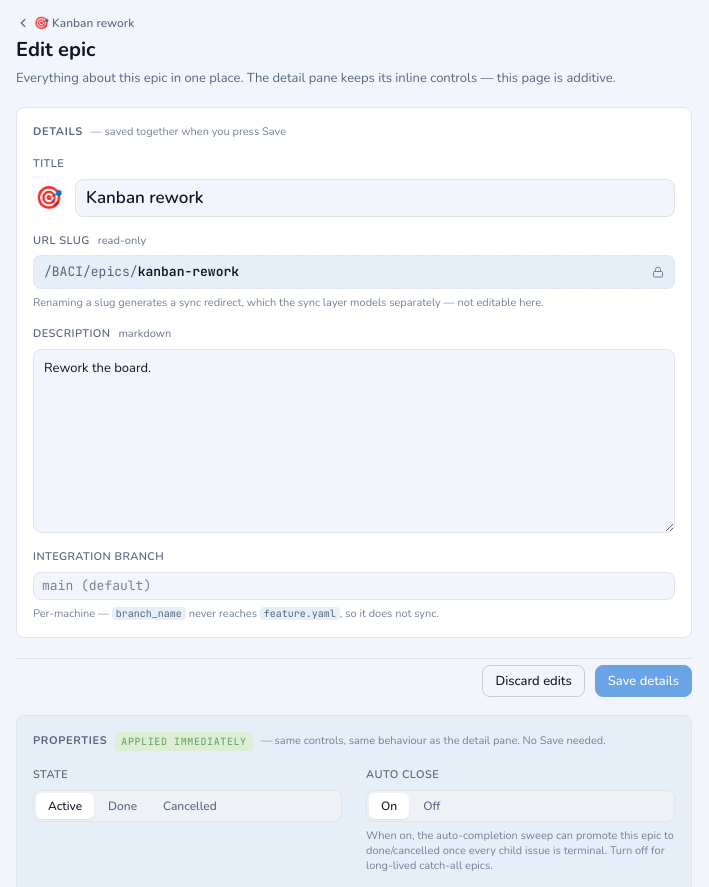
Test case: EditEpicPage — details batch › counts the dirty fields in the UNSAVED chip
This screenshot has width=709, height=887.
Expected: the text "UNSAVED" is not shown
Replace the text in the field labelled "Title" with "Kanban overhaul" at (375,198), box [75,178,675,216]
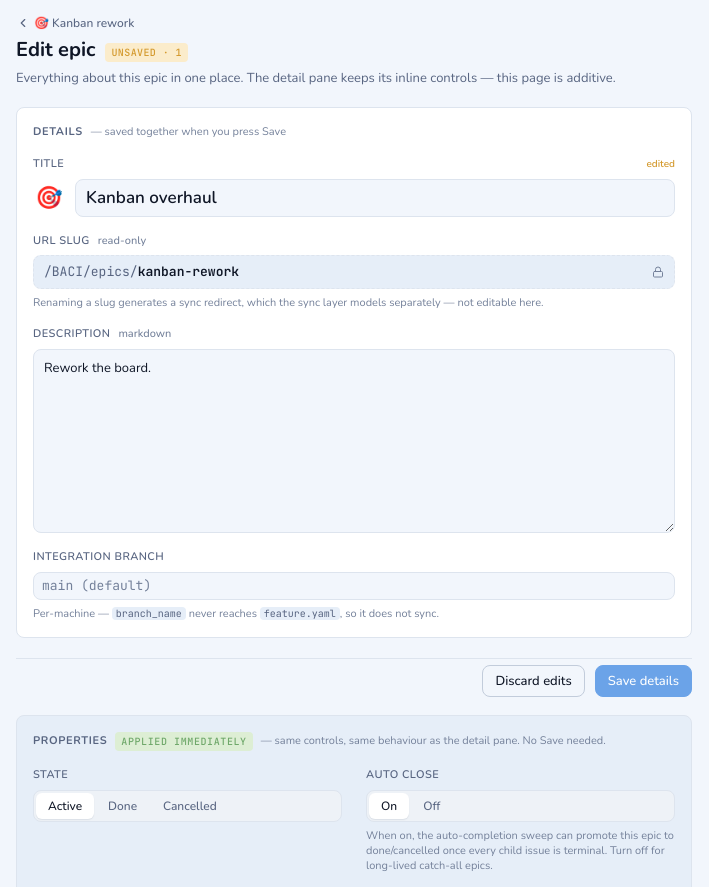
Expected: the text "UNSAVED · 1" is shown, [106,43,188,62]
Replace the text in the text box labelled "Description" with "New body." at (354,441), box [33,349,675,533]
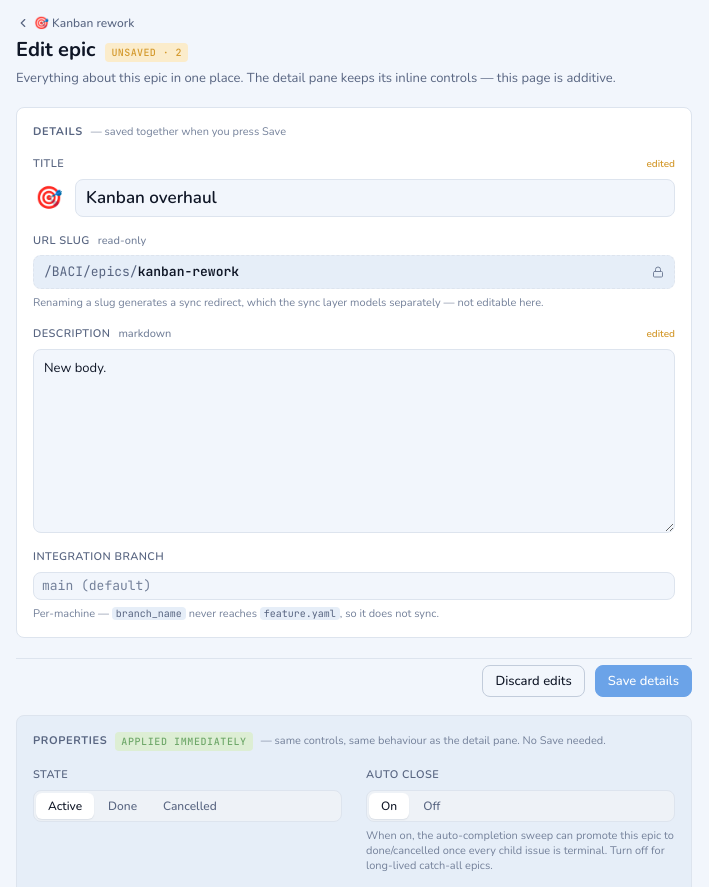
Expected: the text "UNSAVED · 2" is shown, [106,43,188,62]
